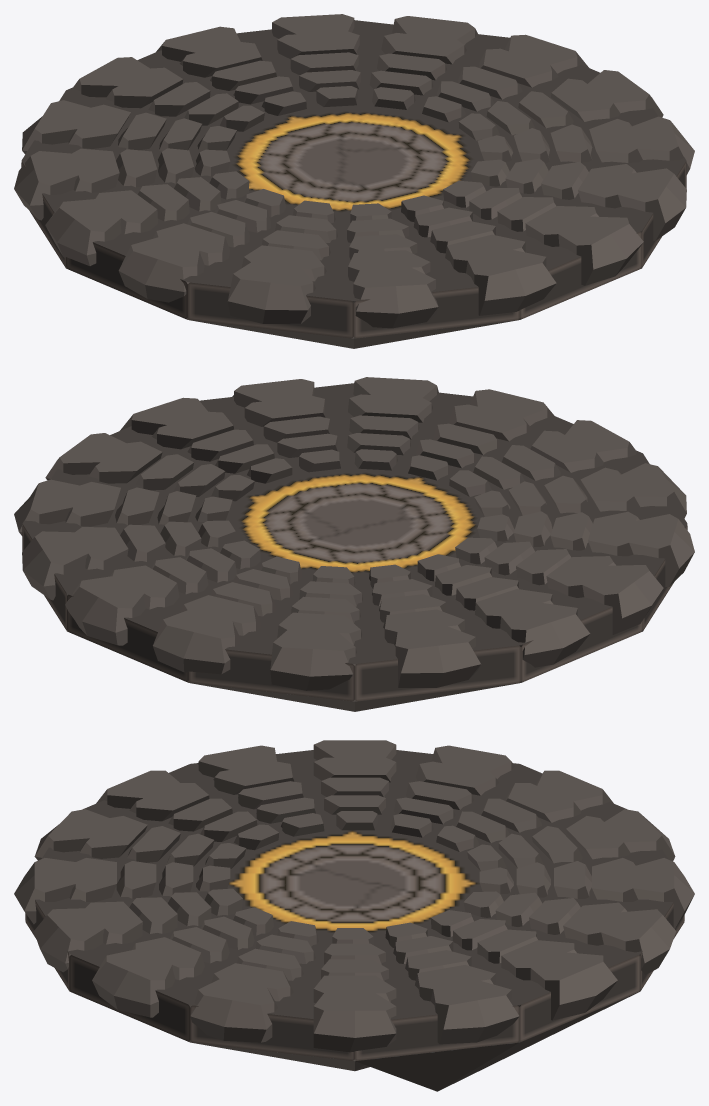
The model's file is Island with golden seal2.obj.
The picture shows the model from 3 angles, top to bottom: view 1: azimuth 30°, elevation 25°; view 2: azimuth 150°, elevation 25°; view 3: azimuth 270°, elevation 25°; orthographic projection.
Visible parts, largest first — view 1: circle; view 2: circle; view 3: circle.
Part boxes in pixels (bbox=[...]): circle: bbox=[14, 14, 694, 348]; circle: bbox=[14, 377, 694, 711]; circle: bbox=[14, 740, 694, 1091].
Size of the model in its own units: 1.03 by 0.3281 by 1.03.
Materials: 2 (2 with a texture image).
